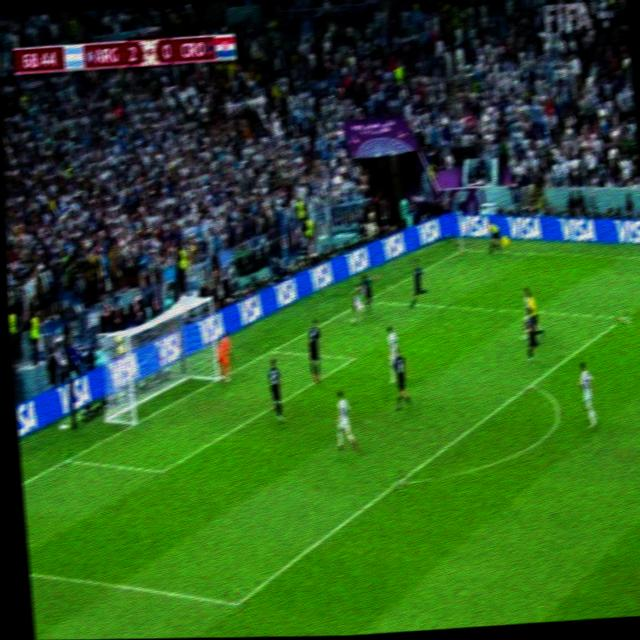bigarea_bottom_inner: (224, 588, 249, 617)
bigarea_top_inner: (613, 305, 631, 328)
bigarea_top_outter: (351, 295, 368, 312)
bottom_arc_area_intersection: (388, 468, 409, 494)
corner: (451, 243, 472, 257)
smallarea_bottom_inner: (149, 454, 174, 484)
smallarea_bottom_outter: (56, 448, 78, 469)
smallarea_top_inner: (342, 347, 360, 367)
smallarea_top_outter: (263, 340, 281, 358)
top_arc_area_intersection: (521, 372, 540, 391)
